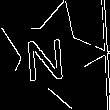N_N: (28, 30, 73, 83)
